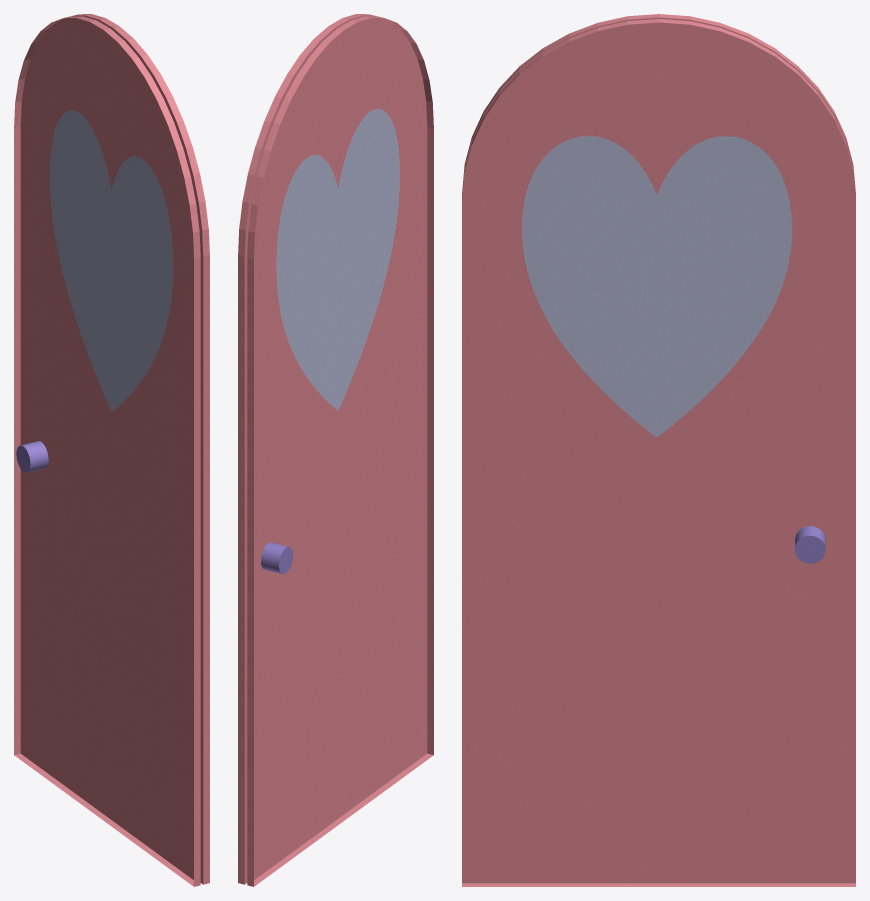
File: PUERTA_LAVANDERIA.obj
3 renders of one model, left to right at view 1: azimuth 30°, elevation 25°; view 2: azimuth 150°, elevation 25°; view 3: azimuth 270°, elevation 25°, orthographic. The views are drawn at different scales.
Visible parts, largest first — view 1: Puerta05.001; view 2: Puerta05.001; view 3: Puerta05.001.
Boxes of the visible parts, box(x1,y1,x2,y2) form: Puerta05.001: box(14, 14, 209, 886); Puerta05.001: box(238, 14, 433, 886); Puerta05.001: box(462, 14, 855, 886).
Bounding box in the file's own units: 0.116 × 2.27 × 0.9366.
Materials: 2 (2 with a texture image).
